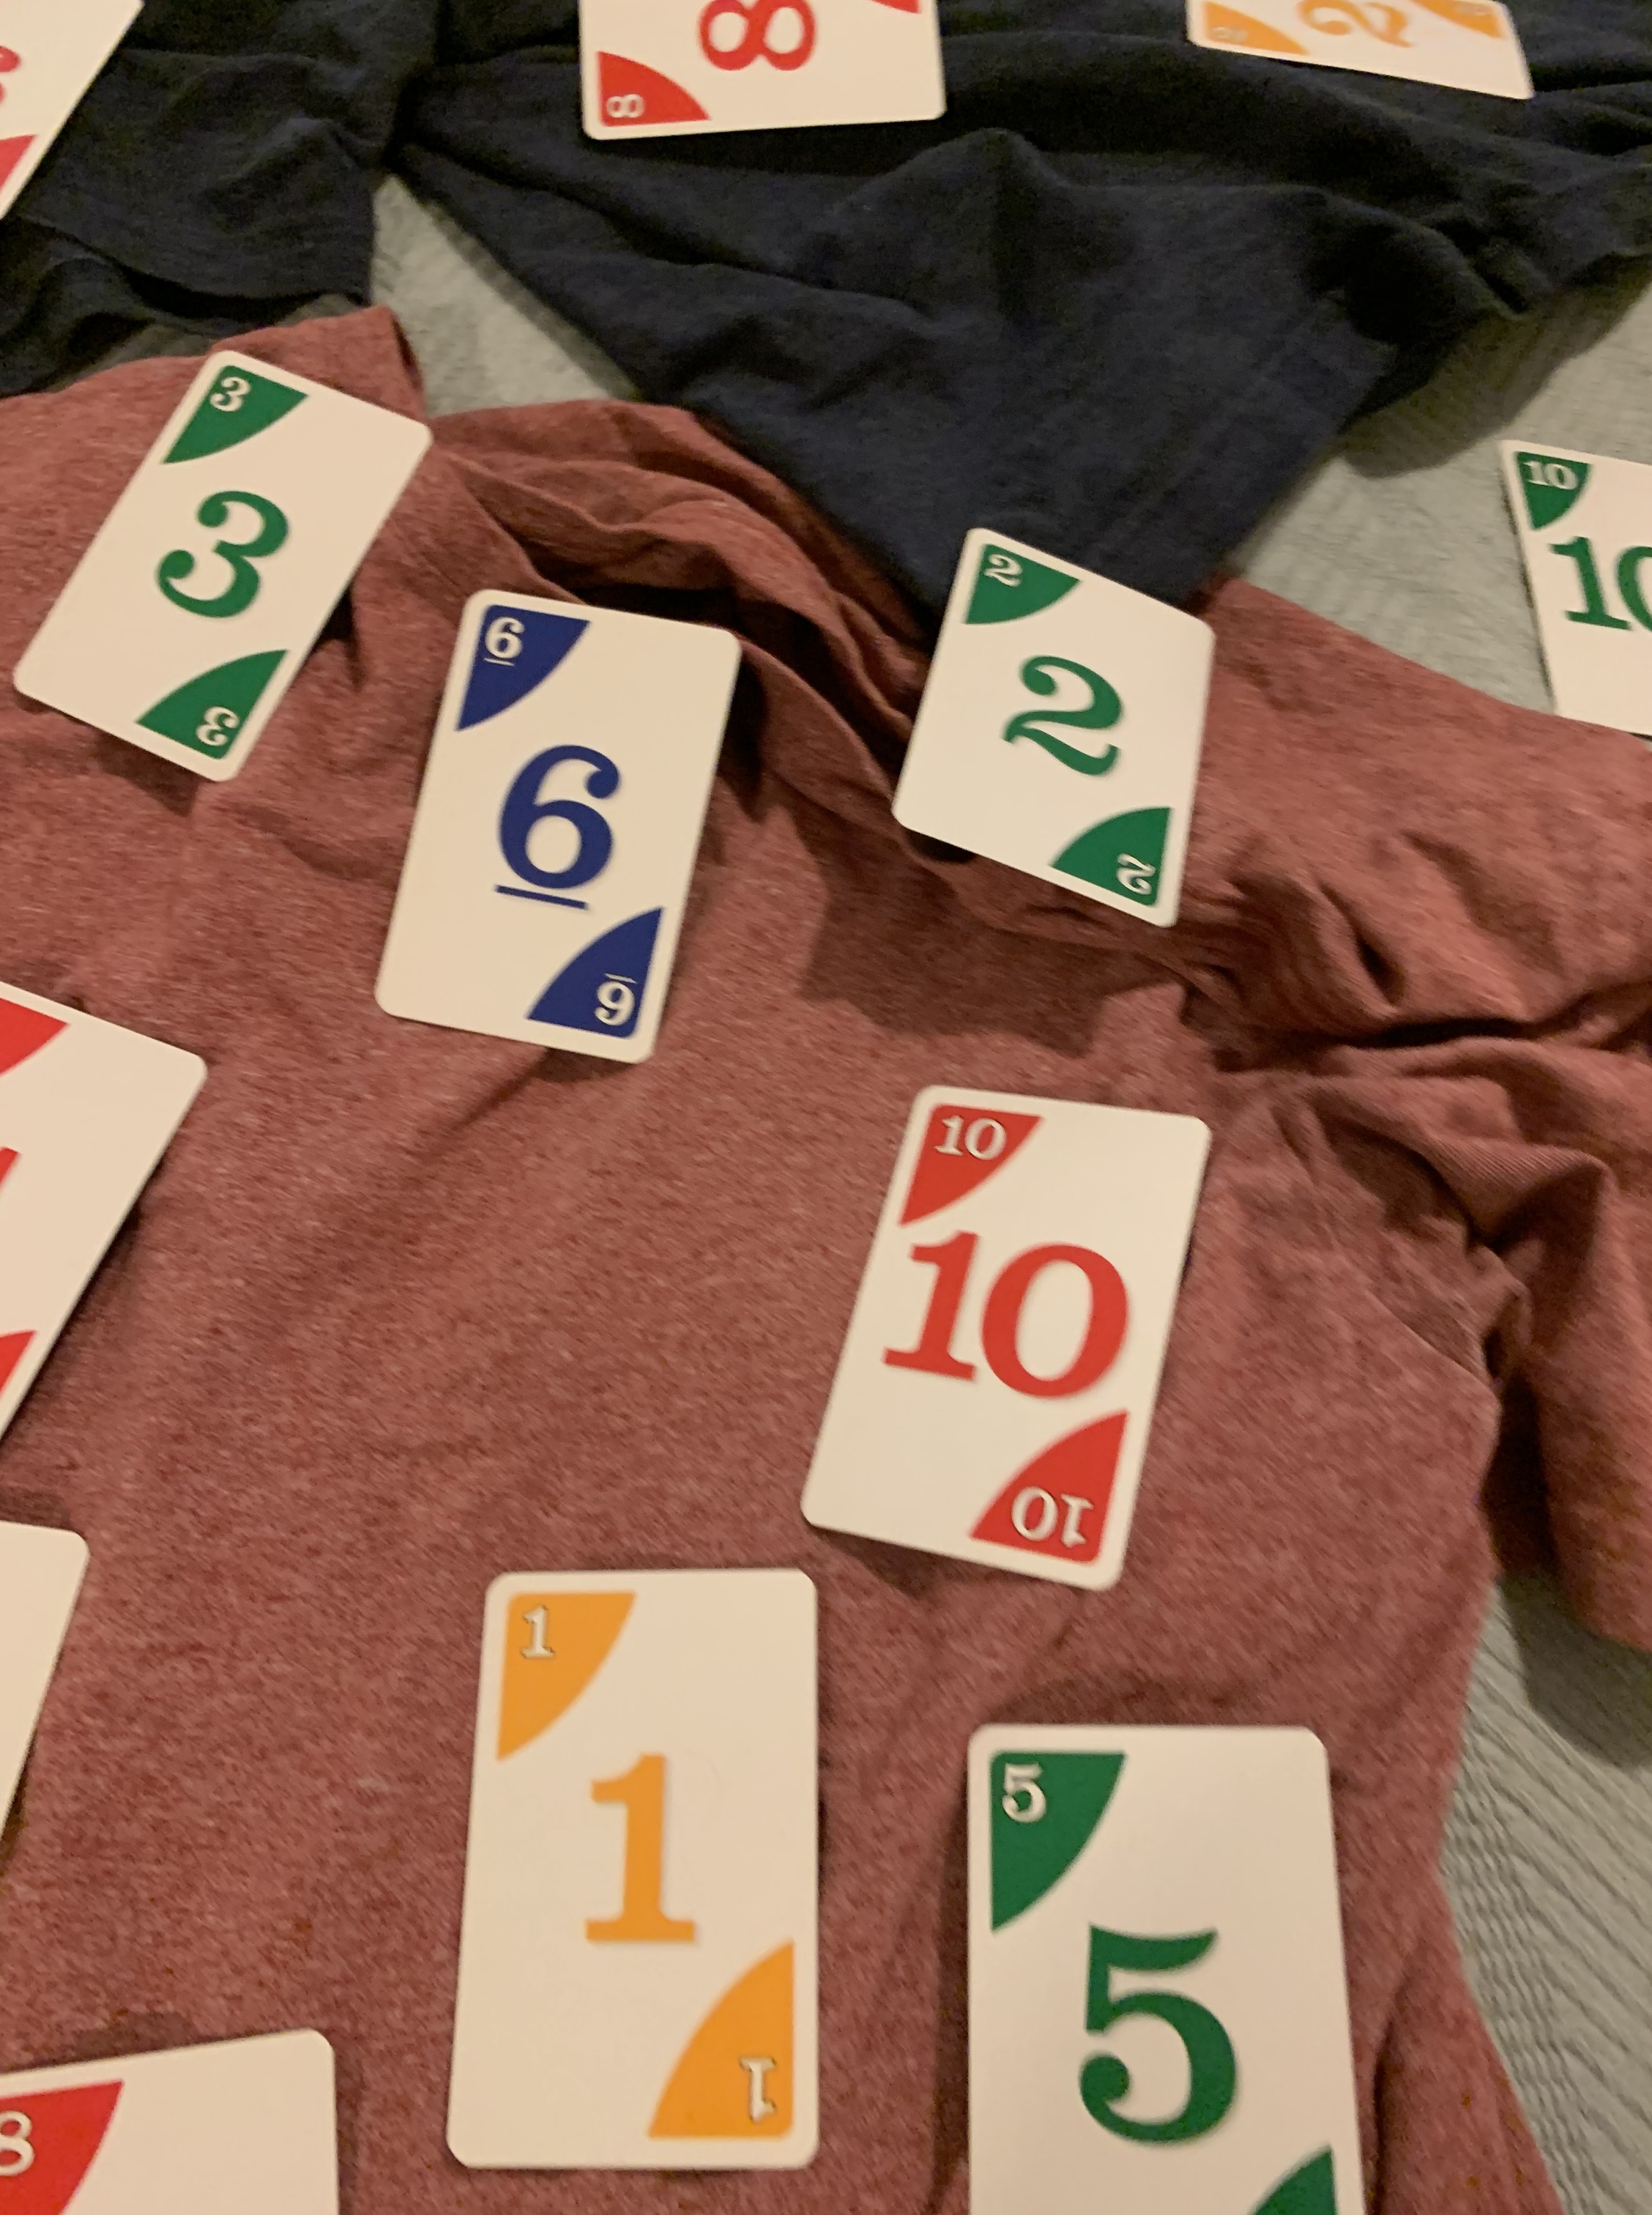five: (939, 1717, 1383, 2215)
one: (432, 1559, 833, 2177)
six: (371, 575, 753, 1071)
ten: (800, 1083, 1222, 1580)
three: (3, 335, 446, 802)
two: (888, 523, 1225, 941)
